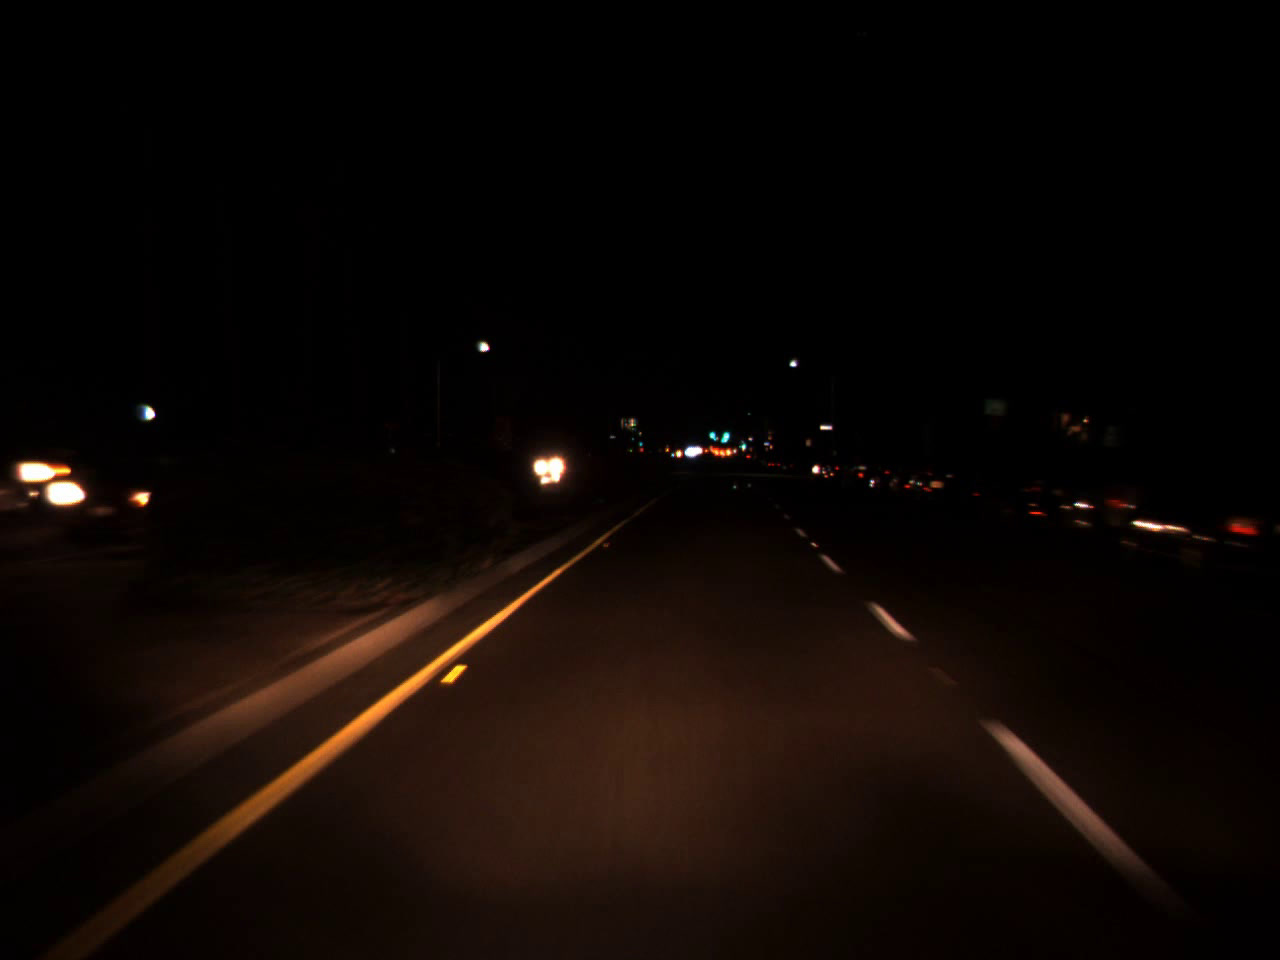go: (716, 415, 732, 448), (737, 438, 747, 450), (708, 425, 715, 440)
